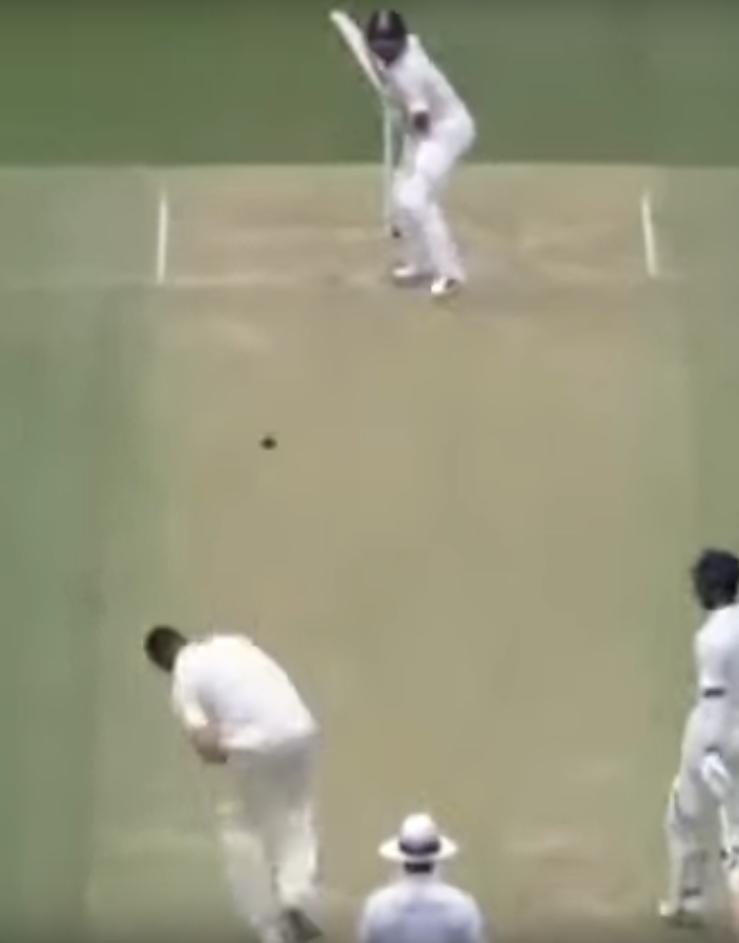Cricket-Ball: (253, 423, 280, 453)
